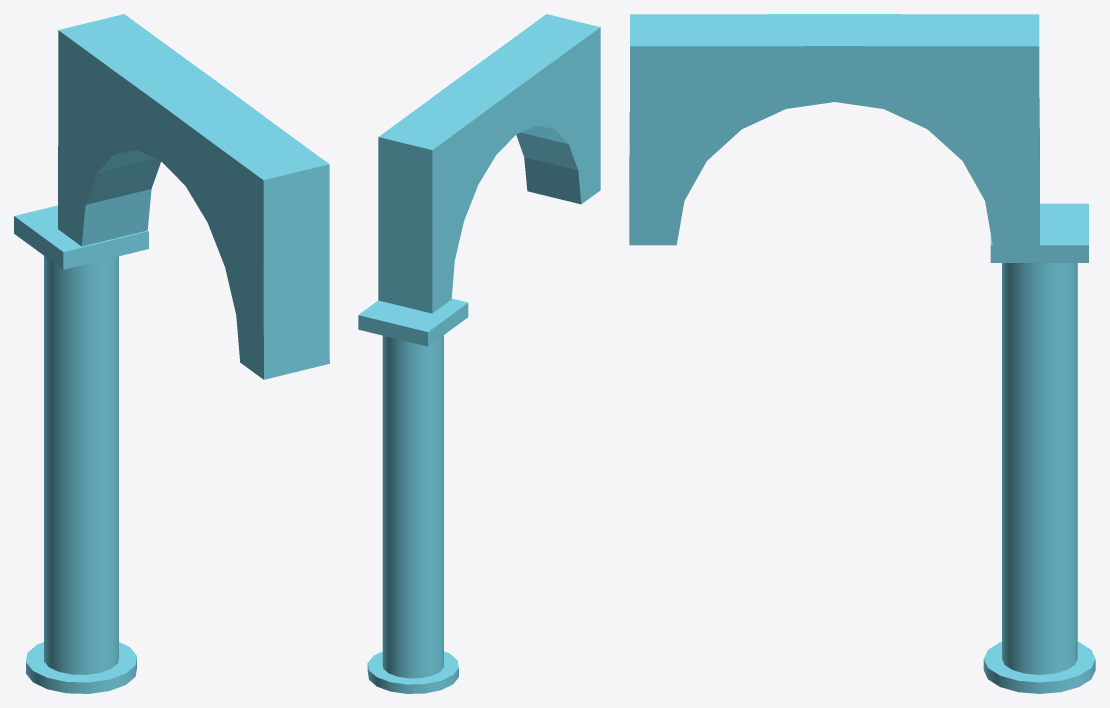
File: pillarA.FBX
3 renders of one model, left to right at view 1: azimuth 30°, elevation 25°; view 2: azimuth 150°, elevation 25°; view 3: azimuth 270°, elevation 25°, orthographic. The views are drawn at different scales.
Parts seen in each view (by area): view 1: pillarA; view 2: pillarA; view 3: pillarA.
Part boxes in pixels (x1=…): pillarA: x1=14, y1=14, x2=329, y2=693; pillarA: x1=358, y1=14, x2=600, y2=693; pillarA: x1=629, y1=14, x2=1095, y2=693.
Size of what is drawn, in the model's own units: 137 by 569 by 868.
